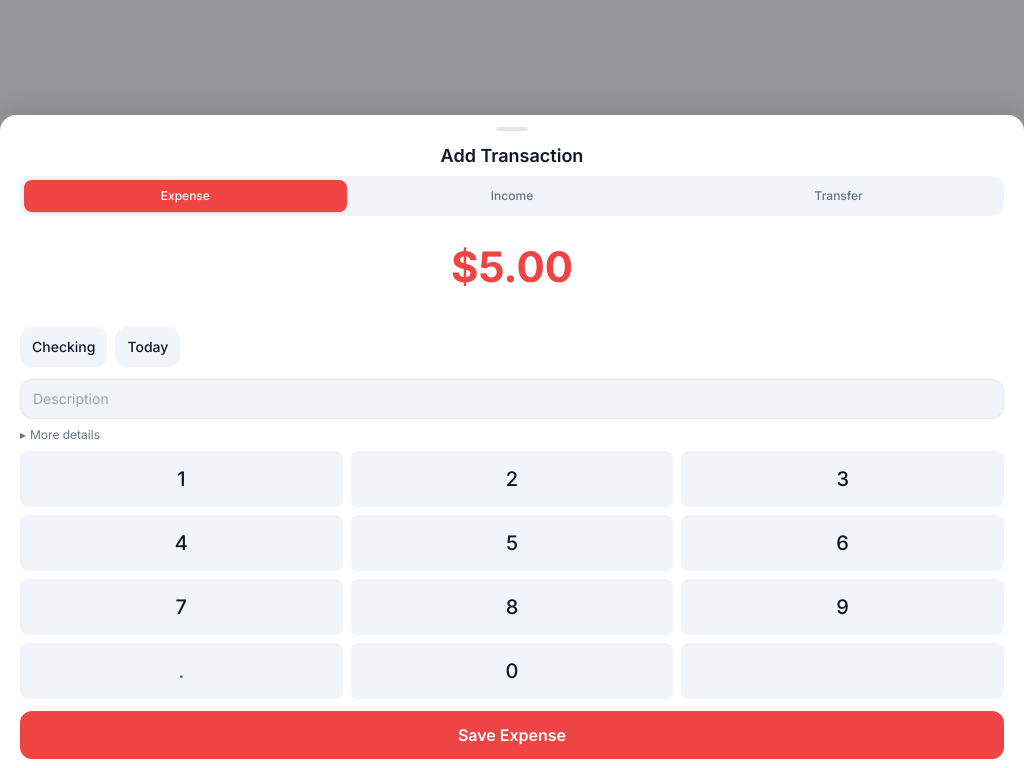
AddTransactionSheet › shows inline error when createTransaction throws
The image size is (1024, 768).
Click the button "Save Expense" at (512, 735), box [20,711,1004,759]
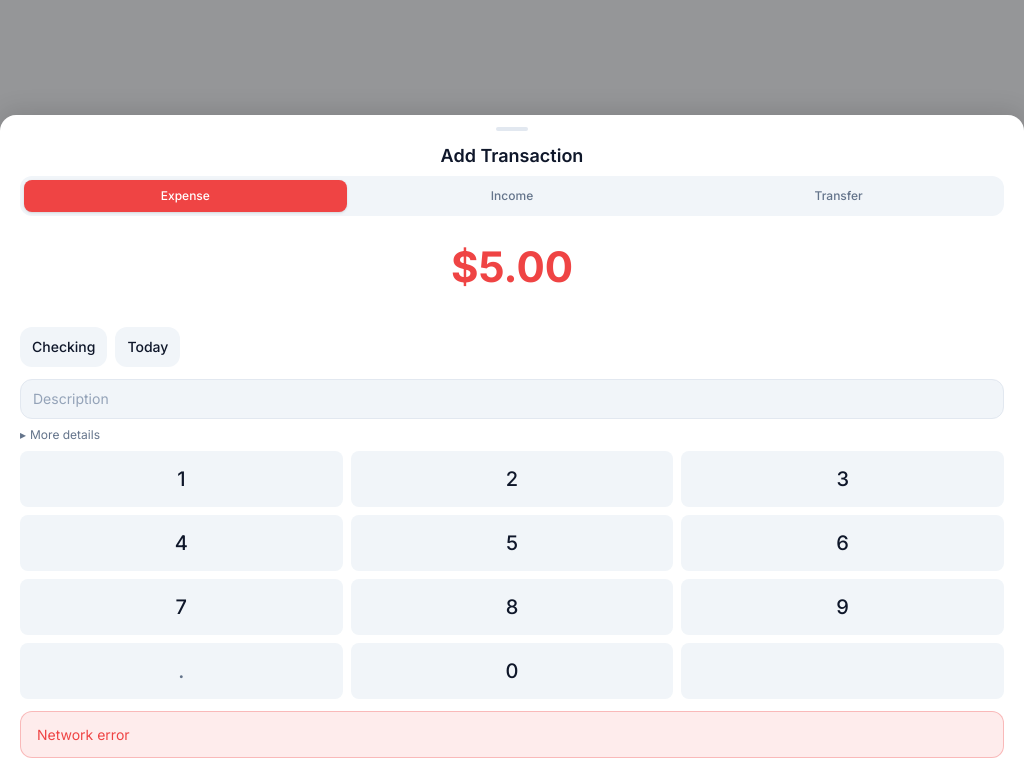
expect the text "Network error" is shown: met, box [20,711,1004,758]
